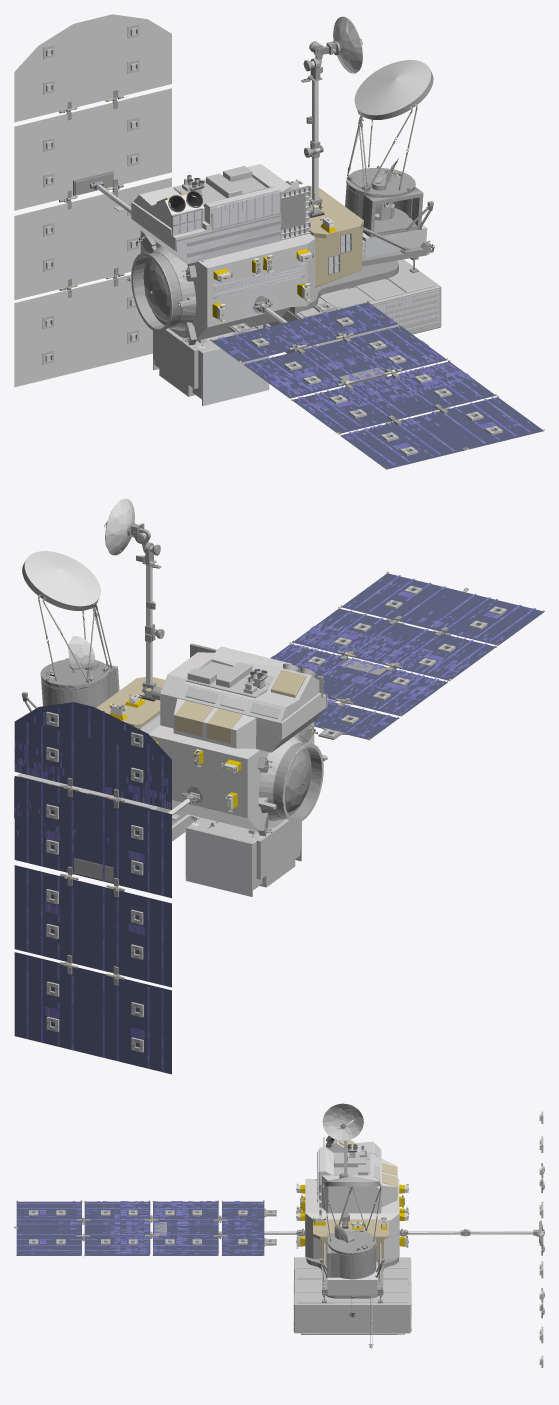
The model's file is gpm.glb.
The picture shows the model from 3 angles, top to bottom: view 1: azimuth 30°, elevation 25°; view 2: azimuth 150°, elevation 25°; view 3: azimuth 270°, elevation 25°; orthographic projection. The views are drawn at different scales.
Visible parts, largest first — view 1: GPM-MainBus; view 2: GPM-MainBus; view 3: GPM-MainBus.
Part boxes in pixels (box(x1,y1,x2,y2)): GPM-MainBus: box(14, 14, 544, 469); GPM-MainBus: box(14, 498, 544, 1074); GPM-MainBus: box(14, 1103, 544, 1367).
Size of the model in its own units: 5.71 by 8.08 by 13.
